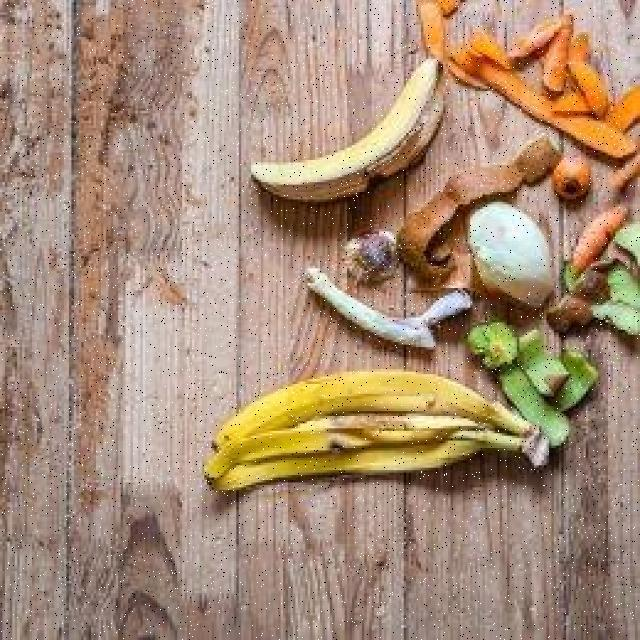Garbage: (192, 0, 640, 517)
